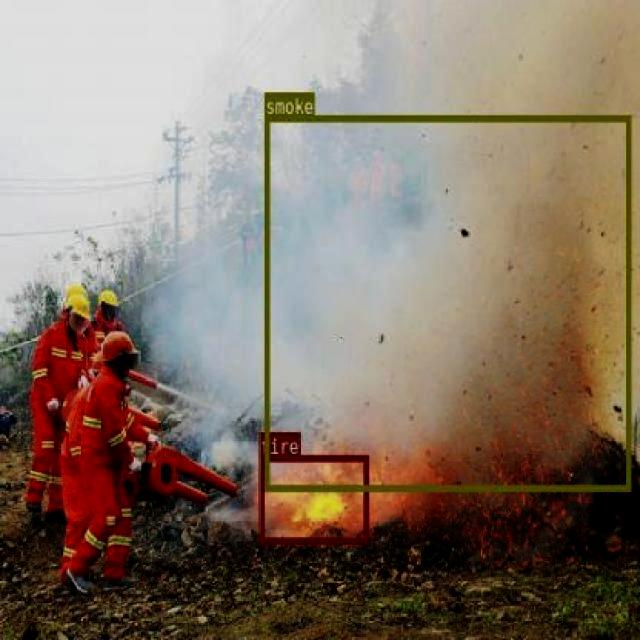fire: (258, 453, 368, 542)
smoke: (264, 114, 630, 490)
